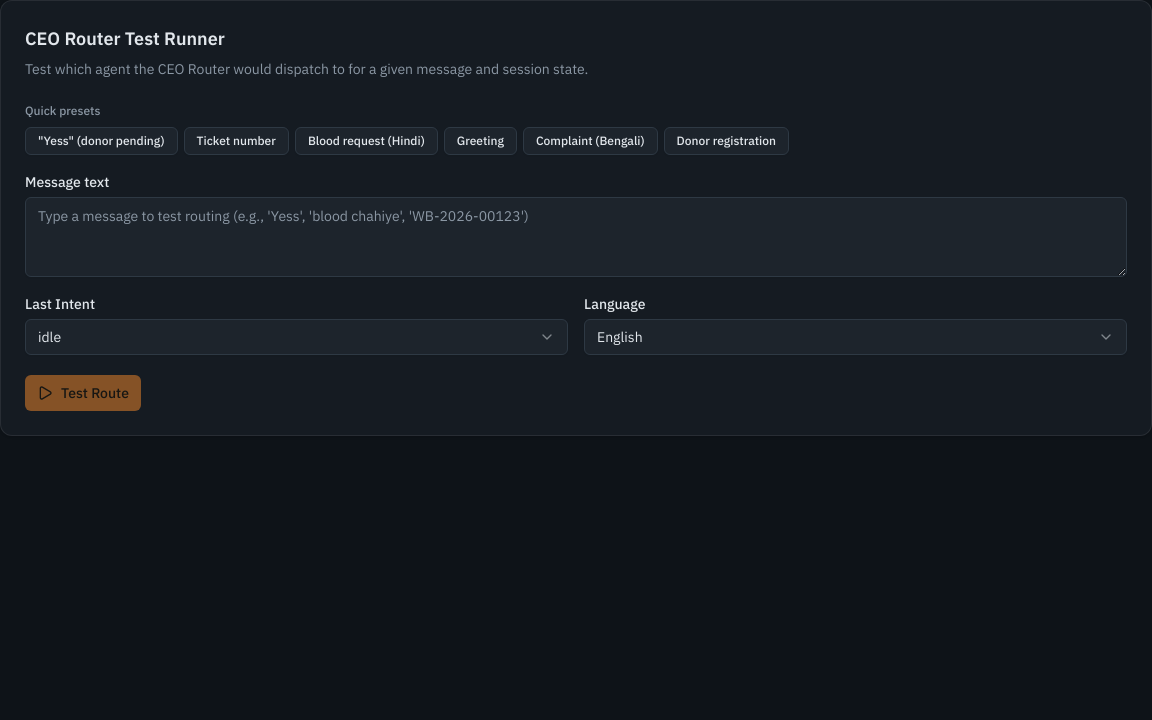
Test: CEORouterTester › POSTs to /api/agents/test-route and renders the routing decision
Type "Yess" into the text box labelled "Message text".
click(576, 237); type("Yess")  # box [25,197,1127,277]
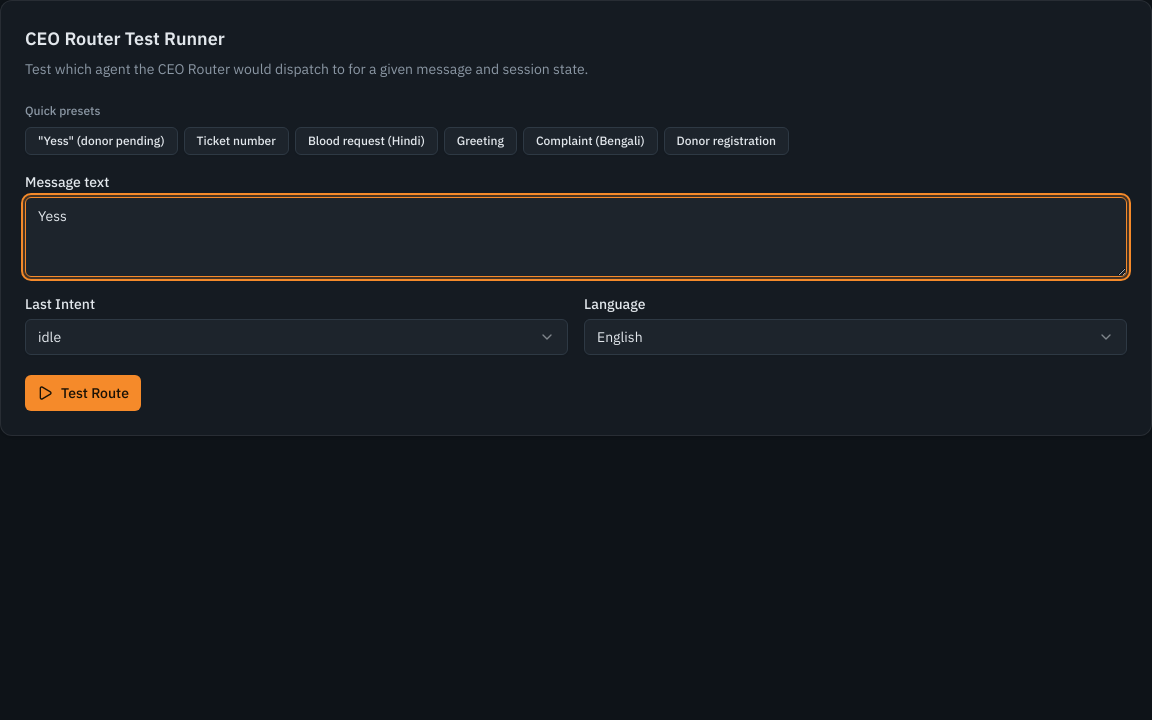
Click the button "Test Route".
click(83, 393)  # box [25,375,141,411]
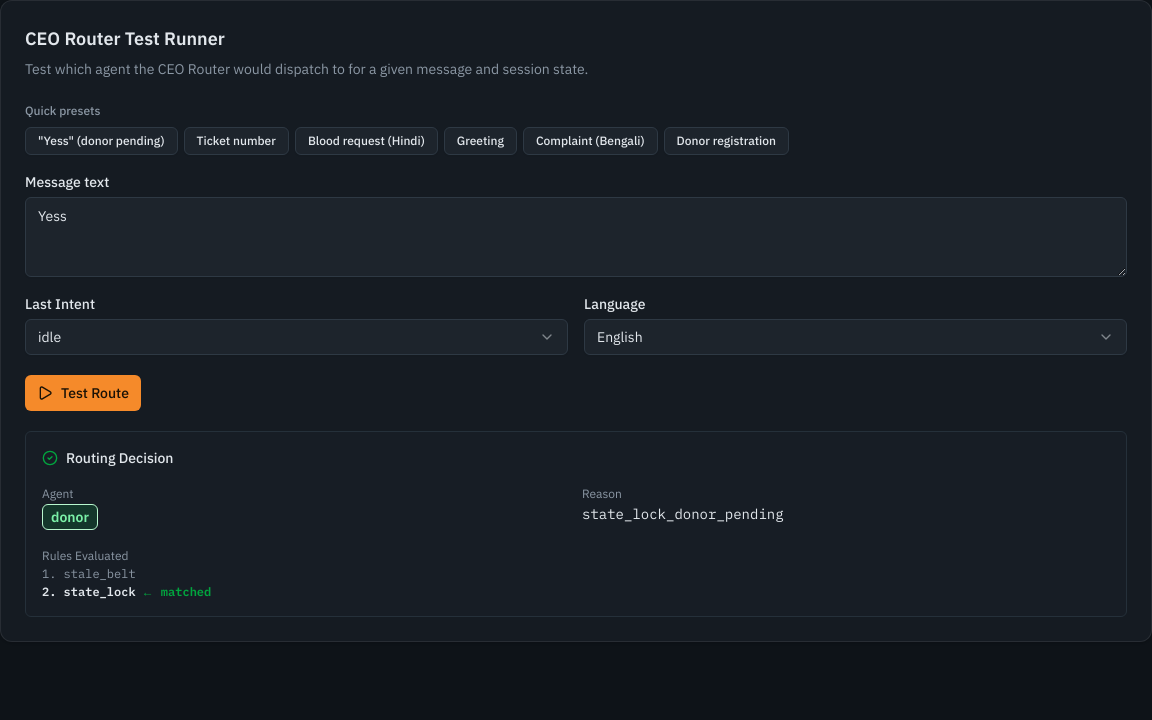
Expected: the text "Routing Decision" is shown, [66,448,174,468]
Expected: the text "donor" is shown, [42,504,98,530]
Expected: the text "state_lock_donor_pending" is shown, [582,505,784,523]
